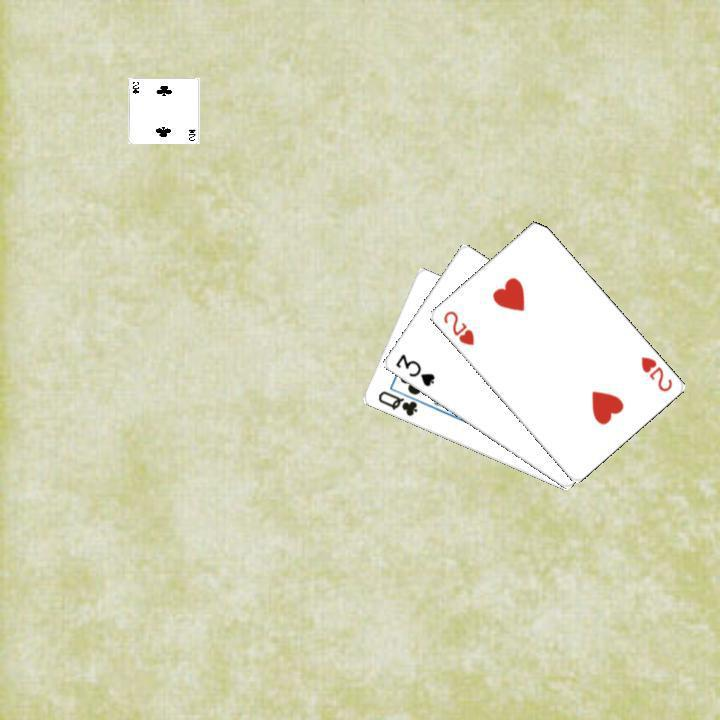2: (636, 352, 674, 394), (438, 306, 476, 347)
3: (391, 350, 437, 389)
Q: (373, 386, 420, 418)
